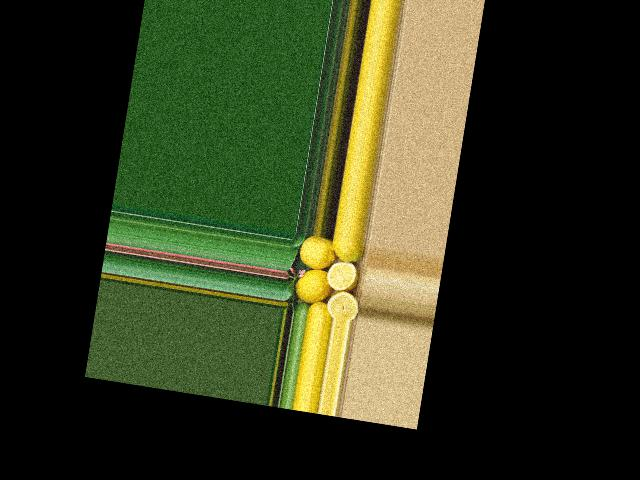lemon: (325, 237, 363, 268)
